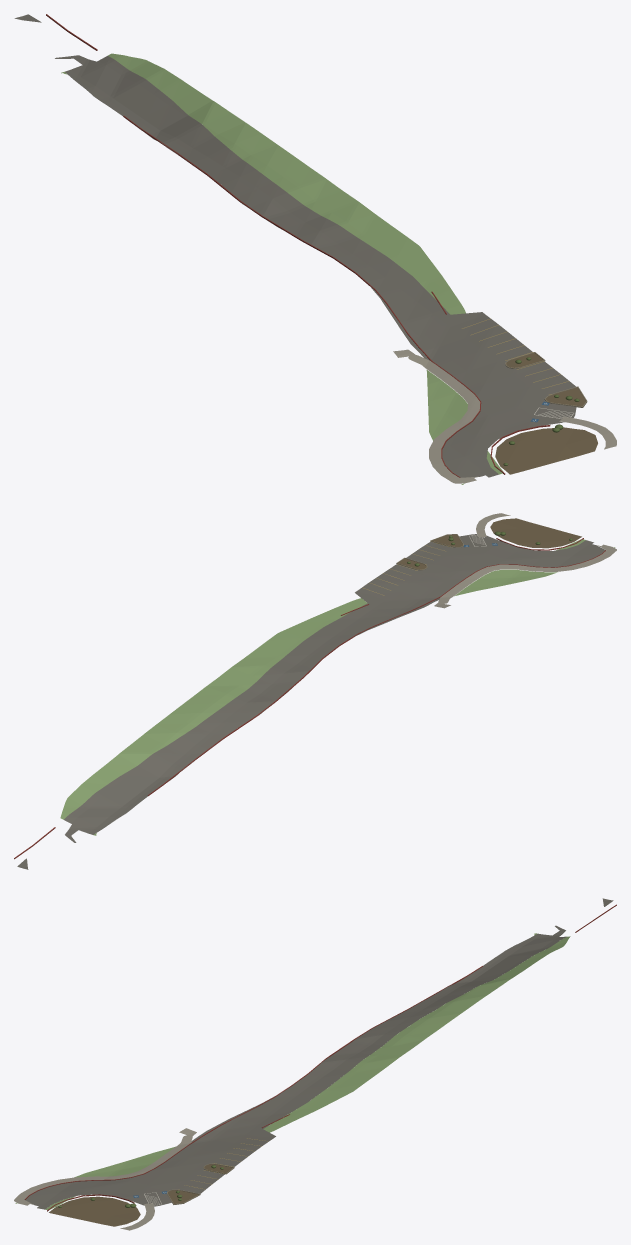
File: site.glb
3 views of the same model, one above another, from view 1: azimuth 30°, elevation 25°; view 2: azimuth 150°, elevation 25°; view 3: azimuth 330°, elevation 25° (orthographic). The views are drawn at different scales.
Visible parts, largest first — view 1: frohnmayer-east-drive-paving, frohnmayer-east-drive-walks, frohnmayer-east-drive-details; view 2: frohnmayer-east-drive-paving, frohnmayer-east-drive-details, frohnmayer-east-drive-walks; view 3: frohnmayer-east-drive-paving, frohnmayer-east-drive-details, frohnmayer-east-drive-walks.
Boxes of the visible parts, x1,y1,x2,y2 form: frohnmayer-east-drive-paving: [14, 14, 597, 484]; frohnmayer-east-drive-walks: [393, 349, 616, 483]; frohnmayer-east-drive-details: [46, 14, 587, 477]; frohnmayer-east-drive-paving: [17, 518, 615, 869]; frohnmayer-east-drive-details: [14, 534, 605, 859]; frohnmayer-east-drive-walks: [434, 513, 616, 608]; frohnmayer-east-drive-paving: [15, 898, 613, 1226]; frohnmayer-east-drive-details: [24, 904, 616, 1211]; frohnmayer-east-drive-walks: [14, 1128, 196, 1230].
Bounding box in the file's own units: 36.46 × 4.89 × 188.
